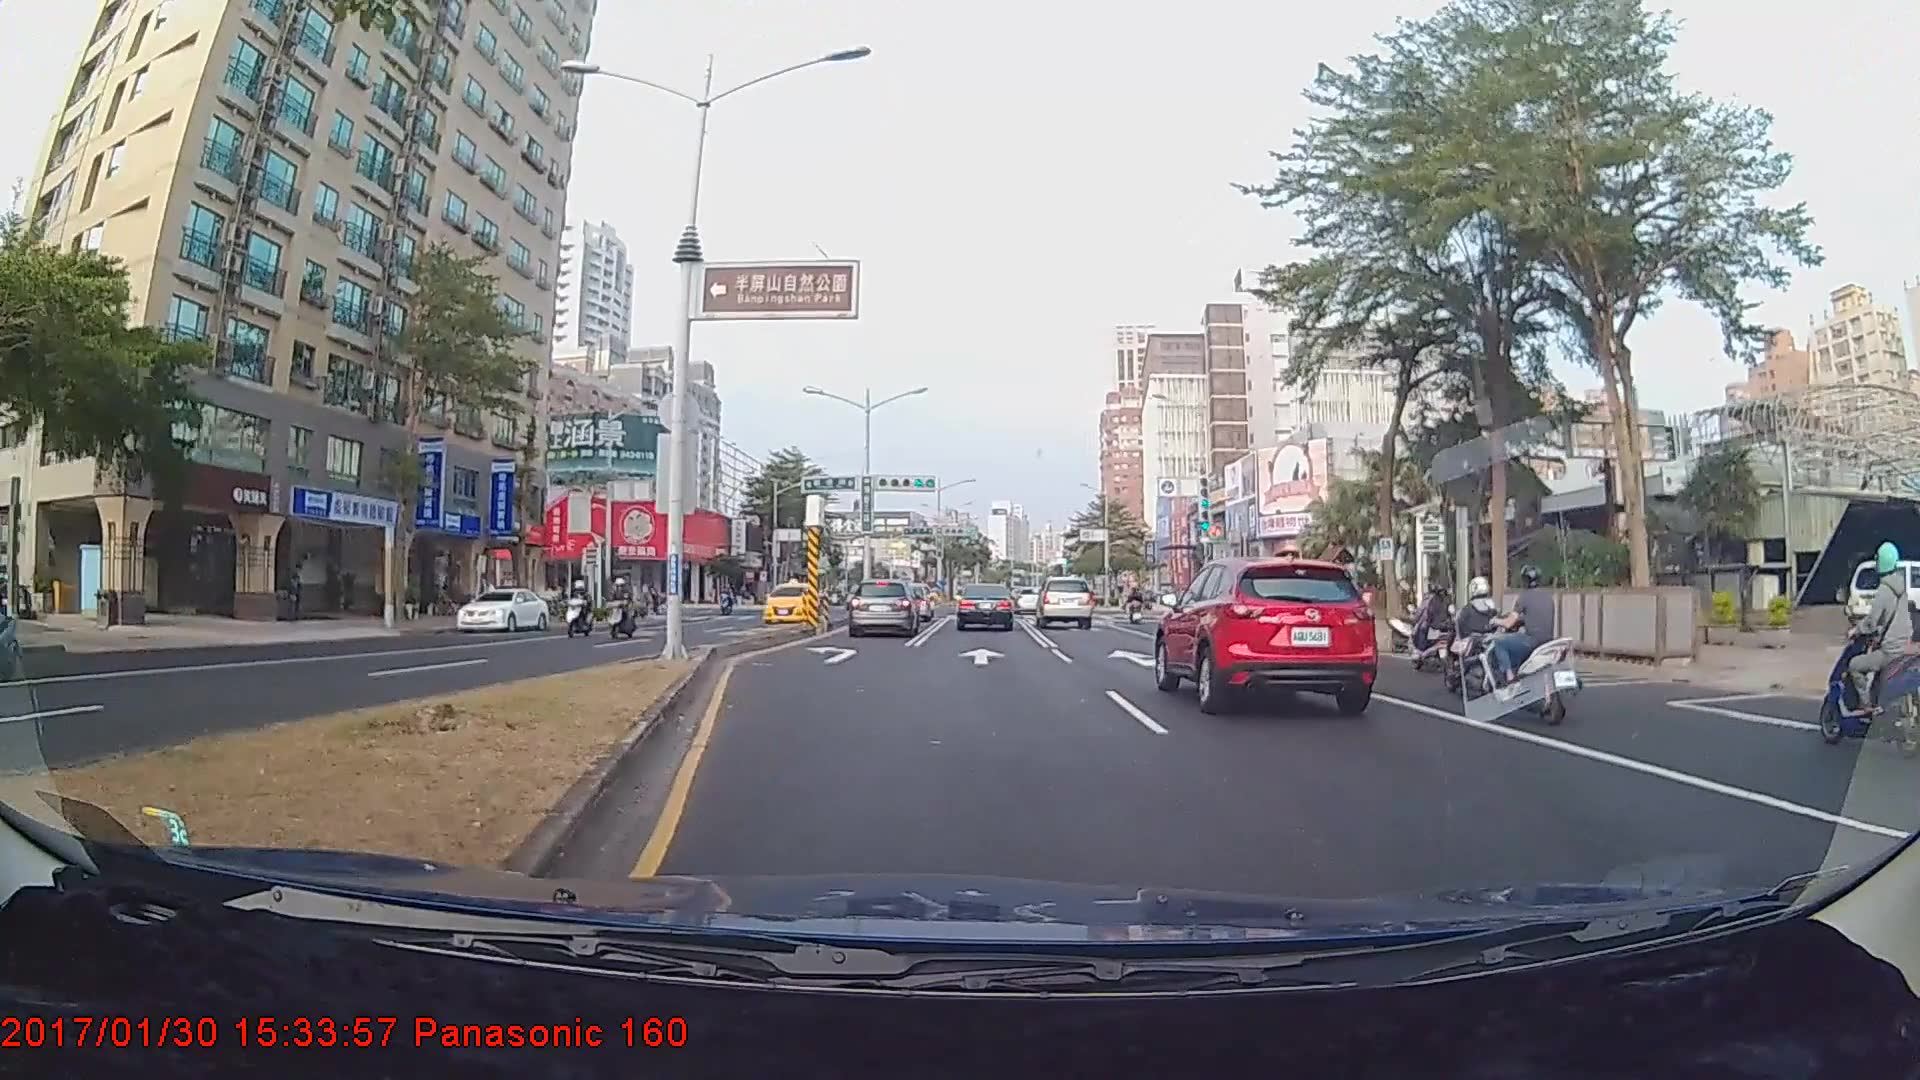rider: (1815, 533, 1920, 769), (1485, 565, 1595, 726), (1439, 569, 1513, 693), (1406, 575, 1464, 673), (562, 576, 600, 641), (602, 577, 641, 641)
vehicle: (1160, 553, 1377, 711), (1844, 561, 1920, 643), (455, 585, 547, 631), (848, 579, 919, 638), (1035, 576, 1094, 629), (956, 582, 1014, 632), (759, 583, 820, 623)
